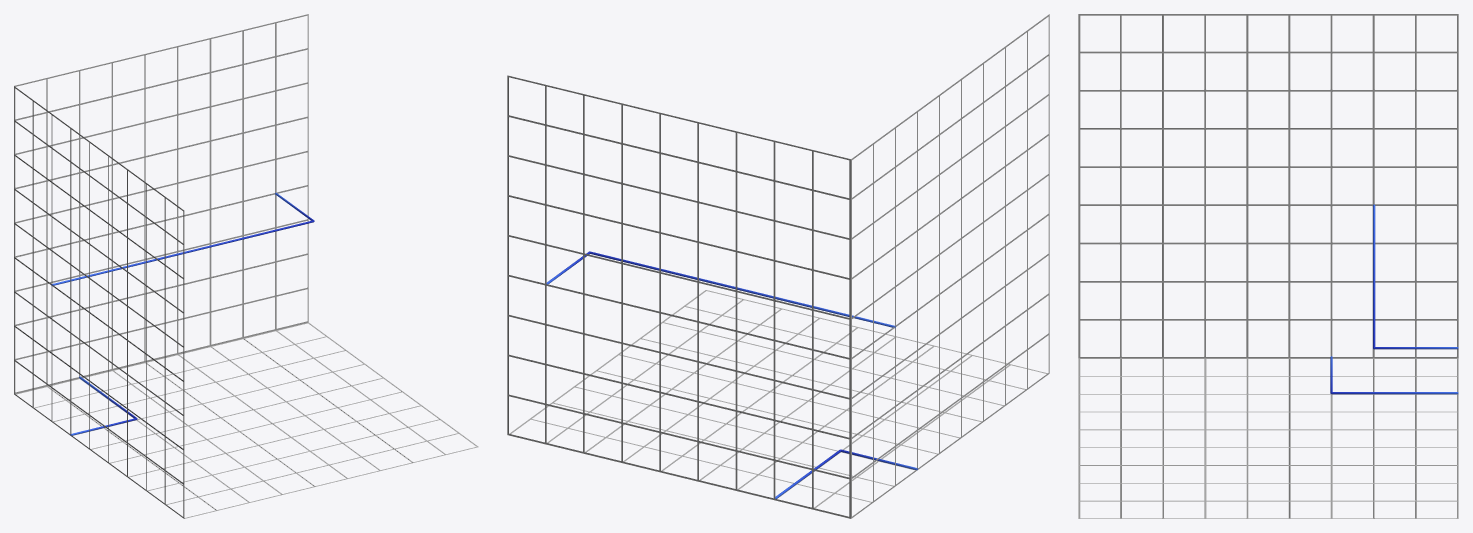
3 views of the same model, side by side, from view 1: azimuth 30°, elevation 25°; view 2: azimuth 150°, elevation 25°; view 3: azimuth 270°, elevation 25° (orthographic). The views are drawn at different scales.
Parts seen in each view (by area): view 1: CartesianCoordinateSystem, BlueLine_3; view 2: CartesianCoordinateSystem, BlueLine_3; view 3: CartesianCoordinateSystem.
Part boxes in pixels (x1=…): CartesianCoordinateSystem: x1=14, y1=14, x2=478, y2=518; BlueLine_3: x1=51, y1=220, x2=314, y2=285; CartesianCoordinateSystem: x1=507, y1=14, x2=1049, y2=518; BlueLine_3: x1=590, y1=251, x2=895, y2=327; CartesianCoordinateSystem: x1=1078, y1=14, x2=1458, y2=518.
Bounding box in the file's own units: 93.28 × 93.27 × 93.27.
